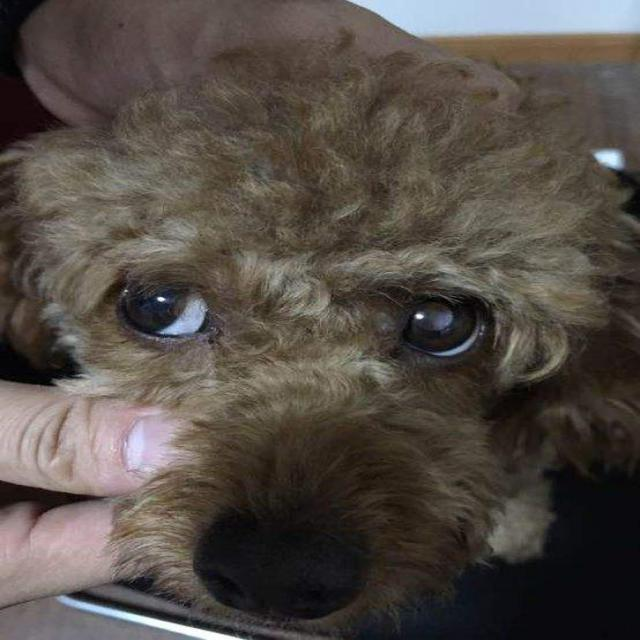eye: (110, 270, 223, 348), (389, 288, 496, 362)
